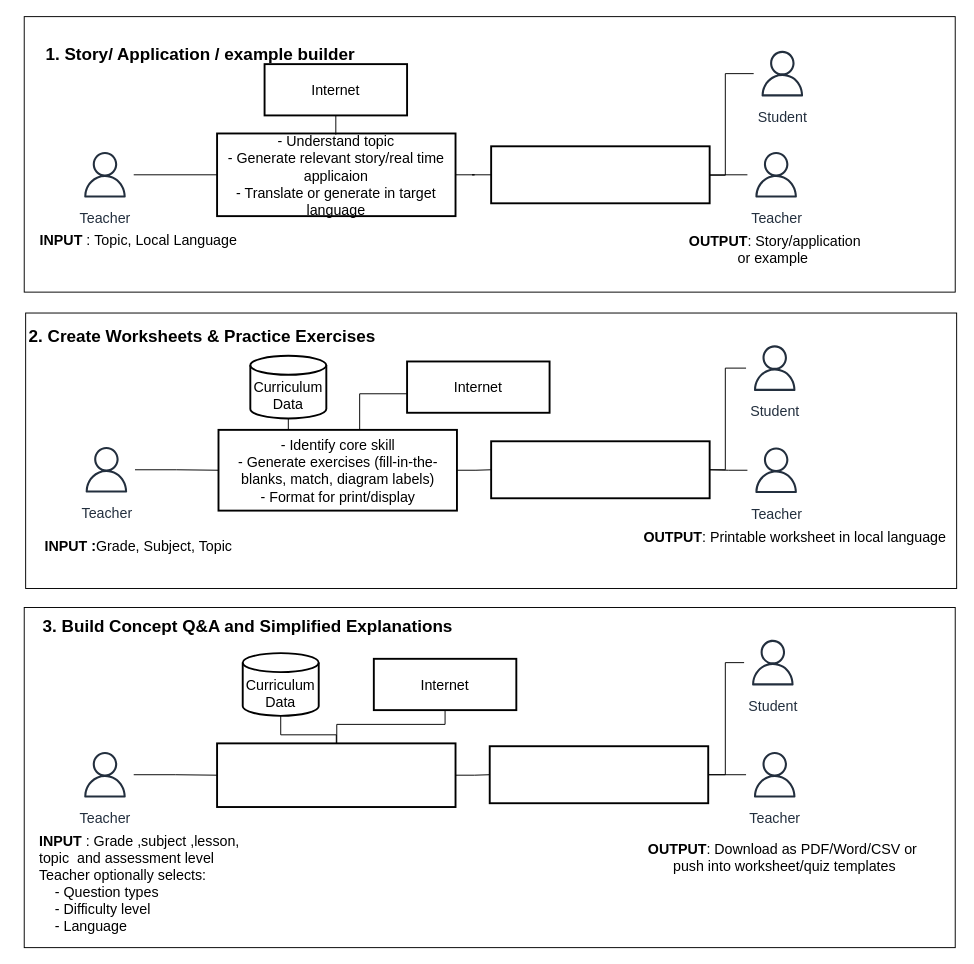
Some shapes in this 974 by 964 pixel diagram are drawn without their labels. The centre of each missing label's shape, as x and y in pixels:
Fetch learning goals - Generate formative/summative Qs - Tag difficulty levels: the point at 336,775
Generate Question bank: the point at 598,774
Printable worksheet in local language: the point at 600,469
Story/application or example text in regional language: the point at 600,174
